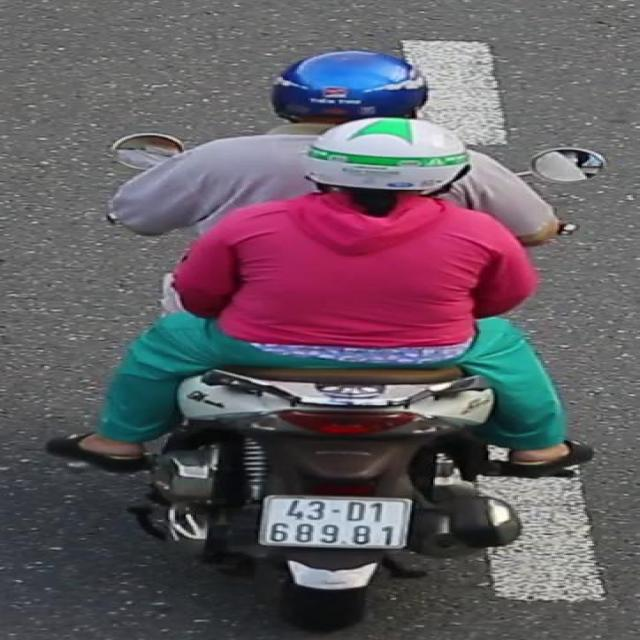LP: (258, 492, 417, 556)
helmet: (264, 45, 440, 136), (309, 117, 486, 193)
